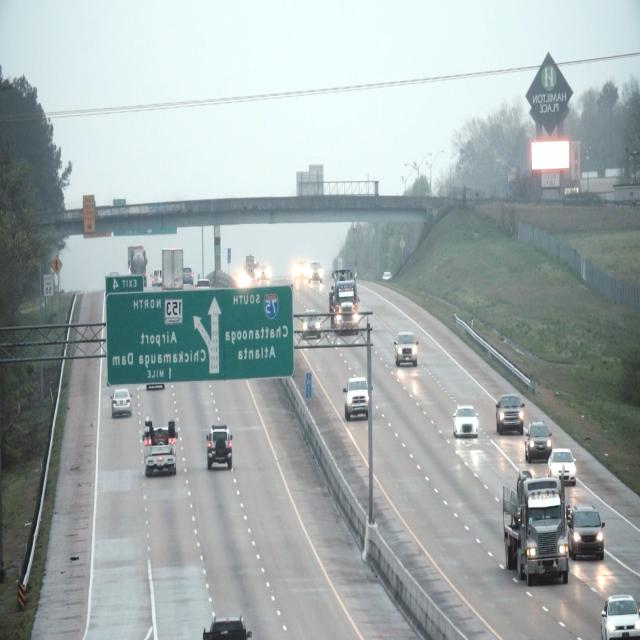Vehicle: (500, 472, 570, 585), (142, 416, 178, 484), (570, 500, 604, 566), (329, 264, 360, 336), (599, 593, 639, 640), (204, 423, 231, 472), (494, 392, 524, 435), (525, 416, 553, 459), (344, 377, 370, 420), (548, 449, 575, 485), (394, 333, 418, 370), (109, 385, 133, 420), (453, 404, 476, 439), (301, 307, 322, 341)
